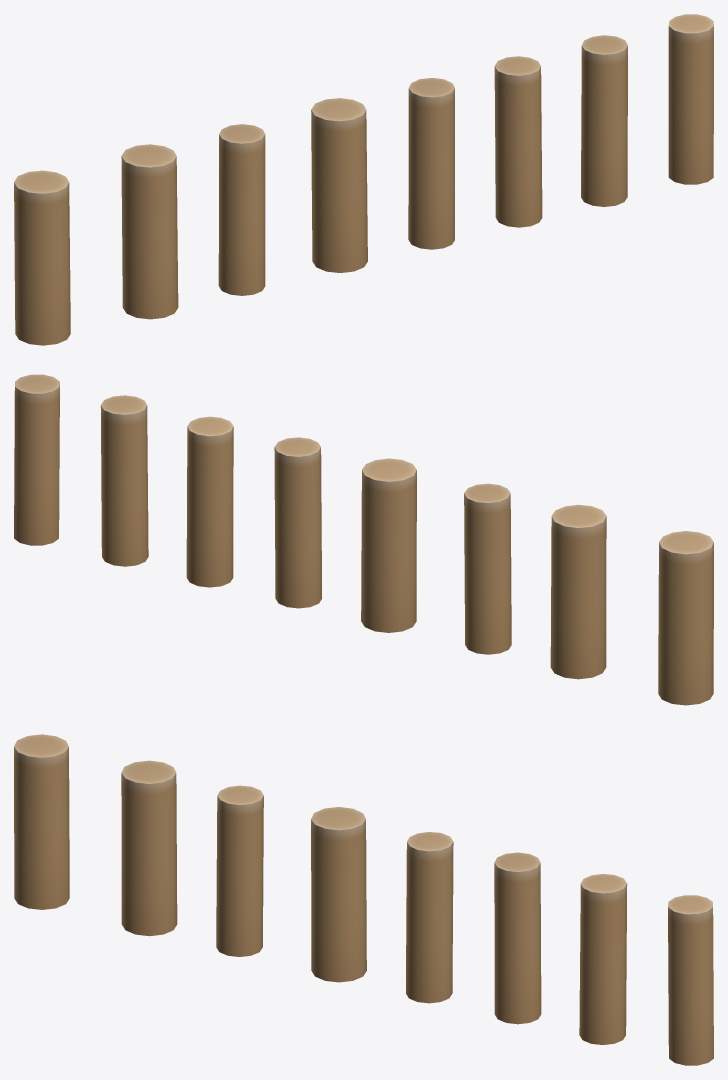
Rendered from WeiQiang_3.fbx.
3 views of the same model, one above another, from view 1: azimuth 30°, elevation 25°; view 2: azimuth 150°, elevation 25°; view 3: azimuth 330°, elevation 25° (orthographic).
Visible parts, largest first — view 1: polySurface5; view 2: polySurface5; view 3: polySurface5.
Boxes of the visible parts, x1,y1,x2,y2 form: polySurface5: (14,14,713,345); polySurface5: (14,374,713,705); polySurface5: (14,734,713,1065).
Size of the model in its own units: 457 by 95.46 by 32.01.
